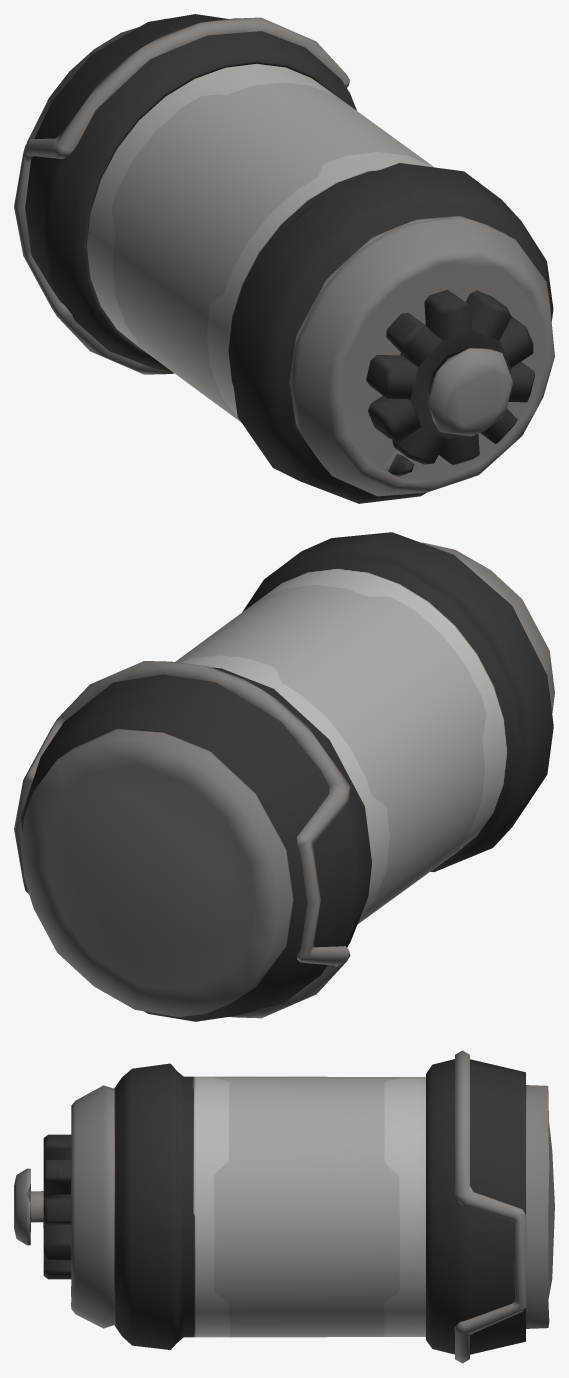
File: LyraGranate.glb
The picture shows the model from 3 angles, top to bottom: view 1: azimuth 30°, elevation 25°; view 2: azimuth 150°, elevation 25°; view 3: azimuth 270°, elevation 25°; orthographic projection. The views are drawn at different scales.
Parts seen in each view (by area): view 1: Waffe_grenade; view 2: Waffe_grenade; view 3: Waffe_grenade.
Boxes of the visible parts, x1,y1,x2,y2 form: Waffe_grenade: (14,14,554,503); Waffe_grenade: (14,532,554,1021); Waffe_grenade: (14,1050,554,1363).
Bounding box in the file's own units: 0.0863 × 0.0906 × 0.1575.
1 material, 1 textured.
